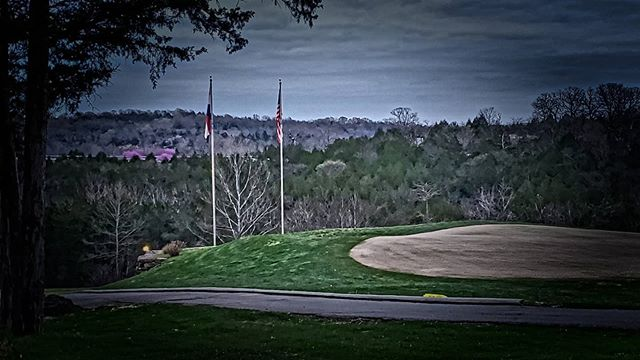flag: (197, 71, 228, 249), (265, 74, 297, 233)
grass: (12, 313, 640, 360), (107, 226, 360, 285)
pathway: (55, 290, 639, 324)
sky: (78, 1, 638, 112)
tree: (6, 1, 195, 330)
